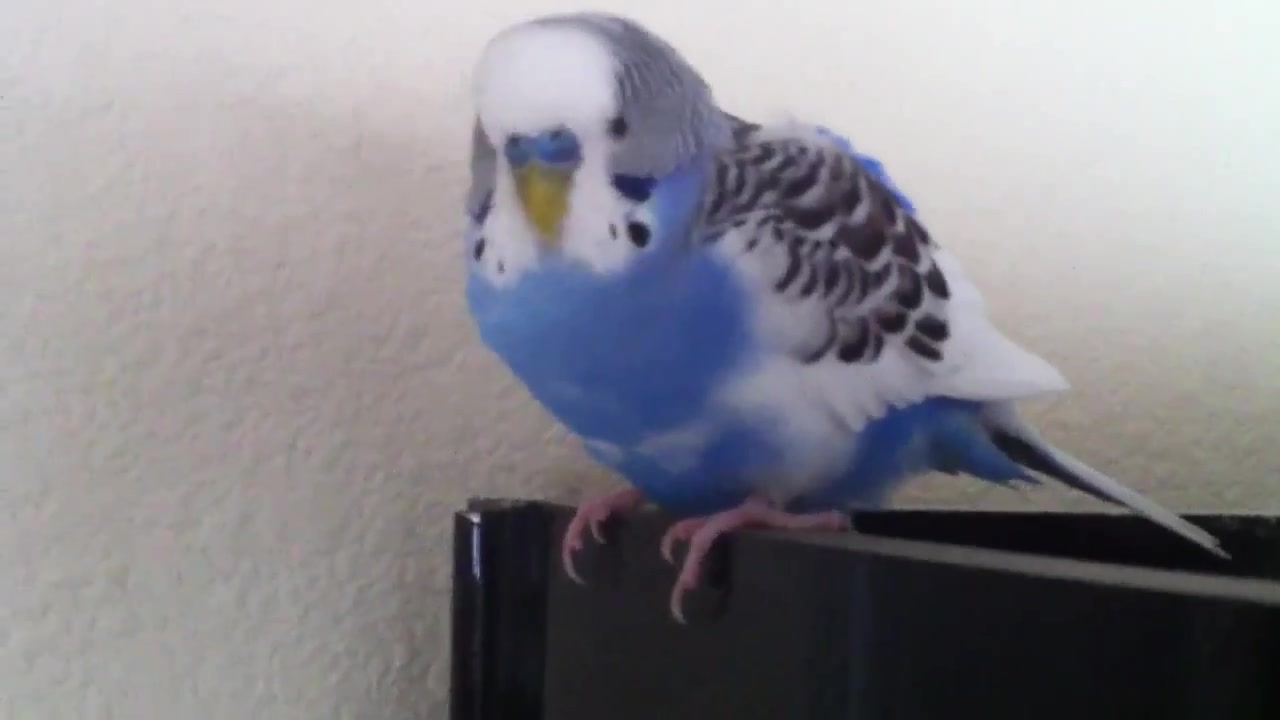bird: (467, 15, 1231, 631)
